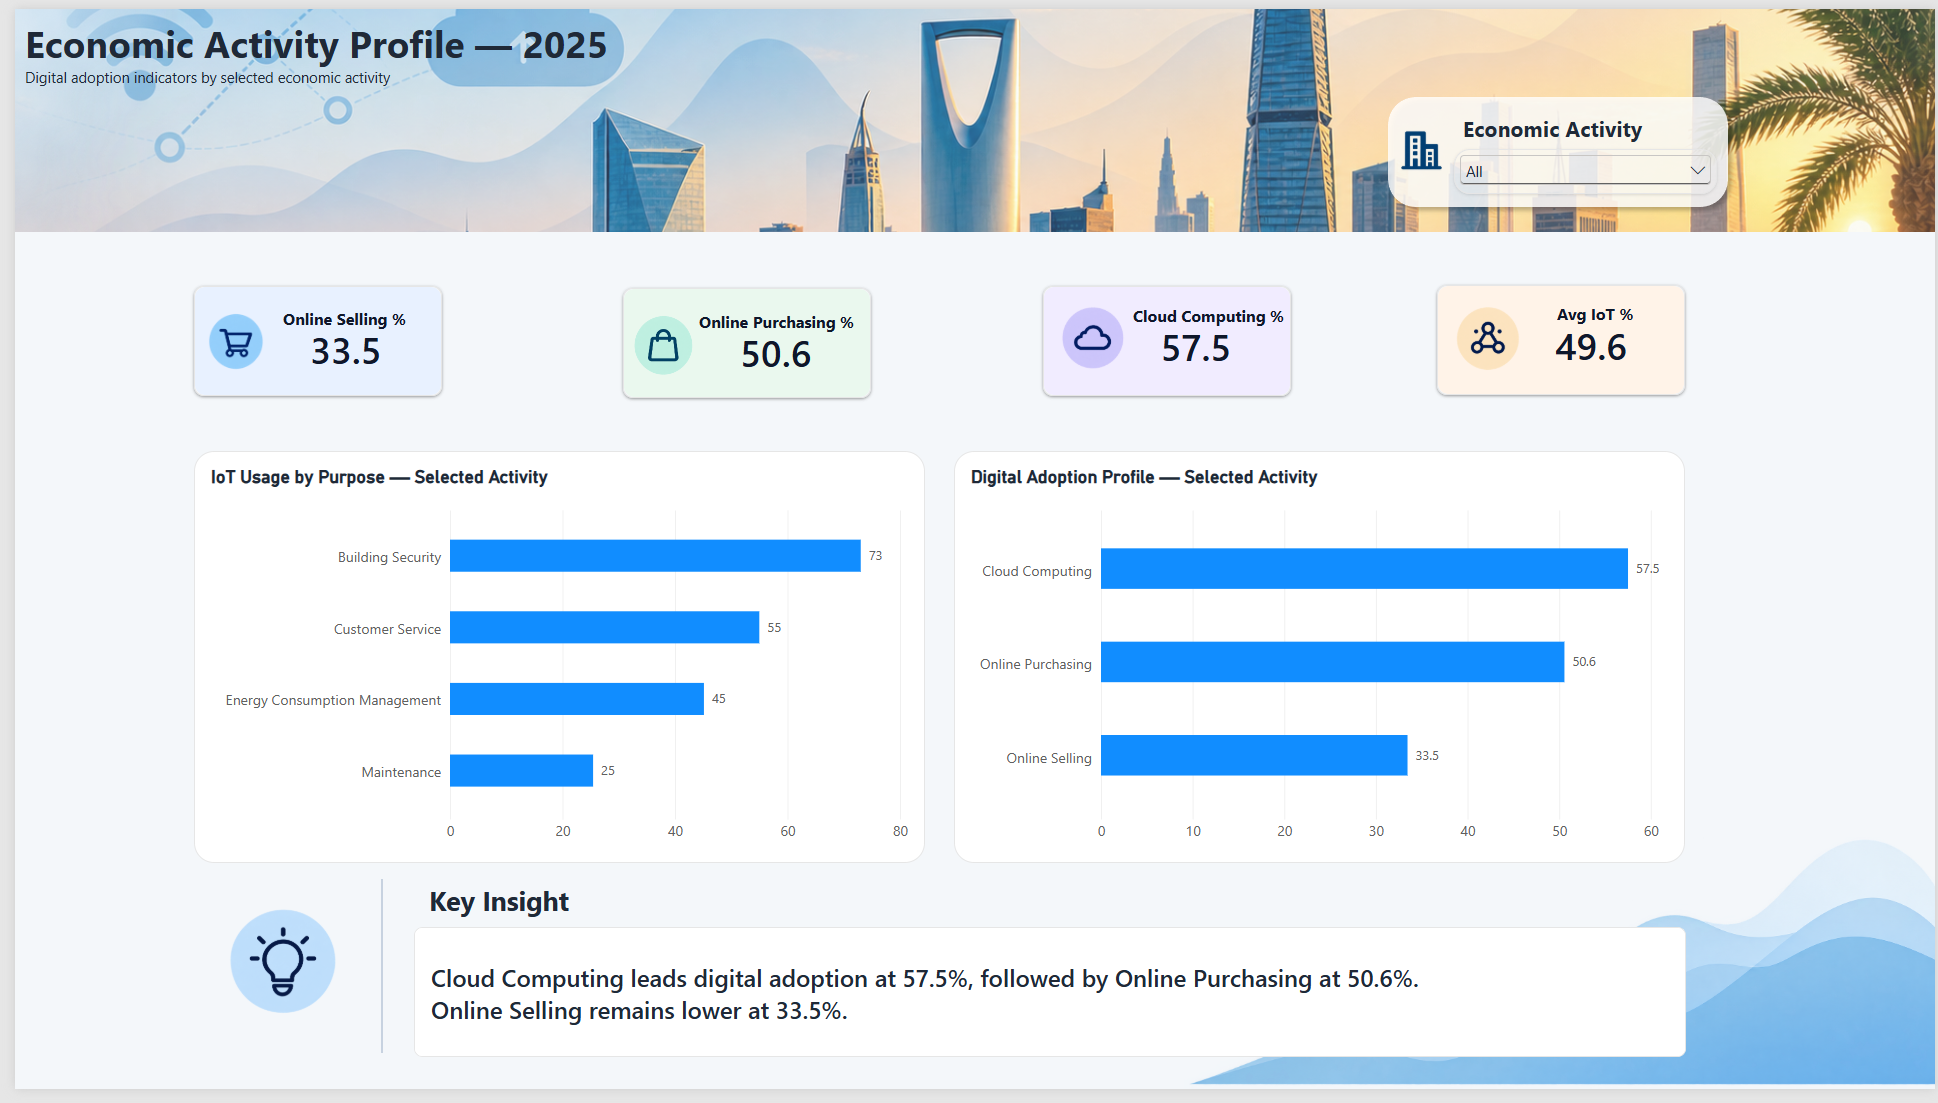

This screenshot's page, from the dashboard's own definition file:
{"tool":"powerbi","page":{"name":"Sector Profile","canvas":[1920,1080],"ordinal":1},"visuals":[{"type":"image","box":[1169,827.9,751,251.9],"z":0},{"type":"image","box":[0,0,1920,223.3],"z":1000},{"type":"textbox","box":[10.1,9,790.1,117.5],"z":2000},{"type":"shape","box":[1364,79,358,128],"z":3000},{"type":"textbox","box":[1448,105,234,35],"z":4000},{"type":"image","box":[1355,88,103.3,103.3],"z":5000},{"type":"slicer","fields":{"Values":["Economic Activities.Economic Activity"]},"box":[1439,140,262.5,45],"z":6000},{"type":"shape","box":[178.7,277,247.9,110],"z":7000},{"type":"cardVisual","title":"Online Selling %","fields":{"Data":["Avg(Online Selling.Online Selling %)"]},"box":[236.3,301.2,189.8,76.8],"z":8000},{"type":"image","box":[186.3,290.2,70,84],"z":9000},{"type":"textbox","box":[268.3,299.2,130,25],"z":10000},{"type":"shape","box":[608.1,279.3,247.9,110],"z":11000},{"type":"cardVisual","title":"Online Selling %","fields":{"Data":["Avg(Online Purchasing.Online Purchasing %)"]},"box":[665.8,303.6,189.8,76.8],"z":12000},{"type":"textbox","box":[683.8,301.6,173,25],"z":13000},{"type":"image","box":[607.8,291.6,81,89],"z":14000},{"type":"shape","box":[1027.8,276.7,247.9,110],"z":15000},{"type":"cardVisual","title":"Online Selling %","fields":{"Data":["Avg(Cloud Computing.Cloud Computing %)"]},"box":[1085.8,298,189.8,76.8],"z":16000},{"type":"textbox","box":[1117.8,295.6,157.8,25.6],"z":17000},{"type":"image","box":[1027.8,281.1,100,95.6],"z":18000},{"type":"shape","box":[1422.2,275.7,247.9,110],"z":19000},{"type":"cardVisual","title":"Online Selling %","fields":{"Data":["Avg(IoT Usage by Purpose.IoT Usage %)"]},"box":[1481.4,297,189.8,76.8],"z":20000},{"type":"textbox","box":[1542.2,294.4,101.1,25.6],"z":21000},{"type":"image","box":[1420,286.8,105.6,85.6],"z":22000},{"type":"clusteredBarChart","title":"IoT Usage by Purpose — Selected Activity","fields":{"Category":["IoT Usage by Purpose.IoT Purpose"],"Y":["Avg(IoT Usage by Purpose.IoT Usage %)"]},"box":[178.9,442.2,731.1,412.2],"z":23000},{"type":"clusteredBarChart","title":"Digital Adoption Profile — Selected Activity","fields":{"Category":["Indicators.Indicator"],"Y":["Indicators.Selected Indicator Value"]},"box":[938.9,442.2,731.1,412.2],"z":24000},{"type":"cardVisual","fields":{"Data":["Indicators.Sector Insight"]},"box":[398.7,917.7,1272.2,130.4],"z":25000},{"type":"textbox","box":[413.9,873.4,189.9,48.1],"z":26000},{"type":"shape","box":[311.4,869.6,111.4,174.7],"z":27000},{"type":"image","box":[186.1,869.6,167.1,162],"z":28000}]}

Visuals, with their boxes in screenshot pixels (x1, y1, x2, y2), scaled from the page's 1920x1080 canvas onto the 1938x1103 screenshot:
image: <bbox>1180, 846, 1937, 1102</bbox>
image: <bbox>0, 0, 1937, 228</bbox>
textbox: <bbox>10, 9, 808, 129</bbox>
shape: <bbox>1377, 81, 1738, 211</bbox>
textbox: <bbox>1462, 107, 1698, 143</bbox>
image: <bbox>1368, 90, 1472, 195</bbox>
slicer - Economic Activities.Economic Activity: <bbox>1452, 143, 1717, 189</bbox>
shape: <bbox>180, 283, 431, 395</bbox>
"Online Selling %" cardVisual: <bbox>239, 308, 430, 386</bbox>
image: <bbox>188, 296, 259, 382</bbox>
textbox: <bbox>271, 306, 402, 331</bbox>
shape: <bbox>614, 285, 864, 398</bbox>
"Online Selling %" cardVisual: <bbox>672, 310, 864, 389</bbox>
textbox: <bbox>690, 308, 865, 334</bbox>
image: <bbox>613, 298, 695, 389</bbox>
shape: <bbox>1037, 283, 1288, 395</bbox>
"Online Selling %" cardVisual: <bbox>1096, 304, 1288, 383</bbox>
textbox: <bbox>1128, 302, 1288, 328</bbox>
image: <bbox>1037, 287, 1138, 385</bbox>
shape: <bbox>1436, 282, 1686, 394</bbox>
"Online Selling %" cardVisual: <bbox>1495, 303, 1687, 382</bbox>
textbox: <bbox>1557, 301, 1659, 327</bbox>
image: <bbox>1433, 293, 1540, 380</bbox>
"IoT Usage by Purpose — Selected Activity" clusteredBarChart: <bbox>181, 452, 919, 873</bbox>
"Digital Adoption Profile — Selected Activity" clusteredBarChart: <bbox>948, 452, 1686, 873</bbox>
cardVisual - Indicators.Sector Insight: <bbox>402, 937, 1687, 1070</bbox>
textbox: <bbox>418, 892, 609, 941</bbox>
shape: <bbox>314, 888, 427, 1067</bbox>
image: <bbox>188, 888, 357, 1054</bbox>
